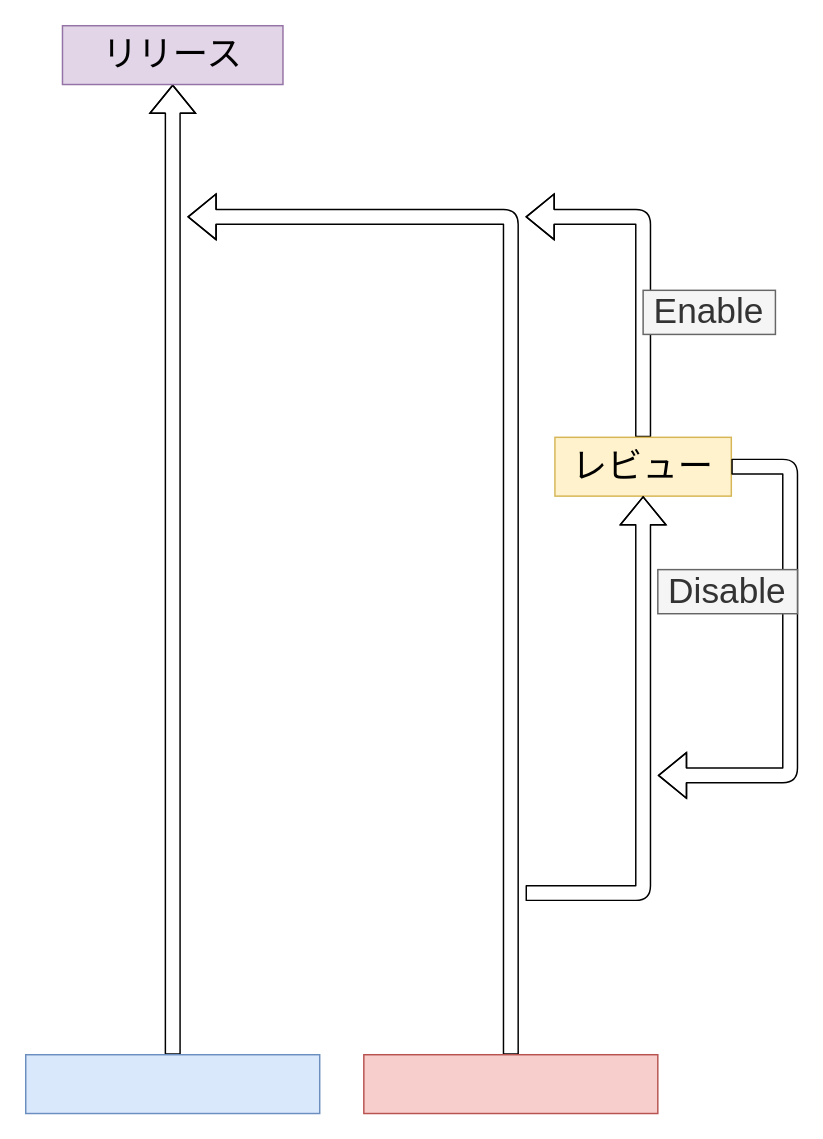
Image size: 823x1139. Some labels were removed from this diagram. Each missing label, with the box of its shape:
Develop: (362, 1053, 658, 1114)
Master: (24, 1053, 320, 1114)
